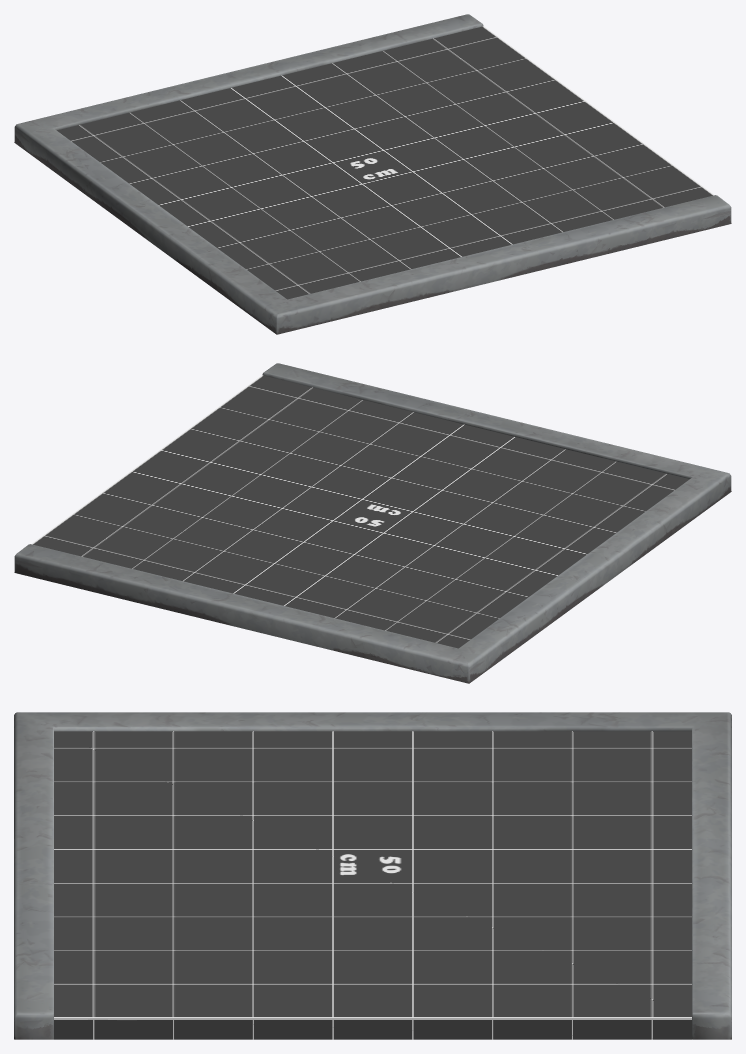
The model's file is M02SideWalk01_9.FBX.
The picture shows the model from 3 angles, top to bottom: view 1: azimuth 30°, elevation 25°; view 2: azimuth 150°, elevation 25°; view 3: azimuth 270°, elevation 25°; orthographic projection. The views are drawn at different scales.
Visible parts, largest first — view 1: M02SideWalk01_9; view 2: M02SideWalk01_9; view 3: M02SideWalk01_9.
Boxes of the visible parts, left/top/right/bottom form: M02SideWalk01_9: left=14, top=14, right=731, bottom=334; M02SideWalk01_9: left=14, top=363, right=731, bottom=683; M02SideWalk01_9: left=14, top=712, right=731, bottom=1039.
Size of what is drawn, in the model's own units: 4.5 by 0.1783 by 4.5.
